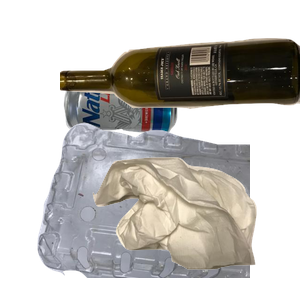glass: (60, 36, 300, 147)
metal: (61, 75, 231, 202)
plastic: (35, 120, 275, 300)
trash: (90, 155, 300, 300)
